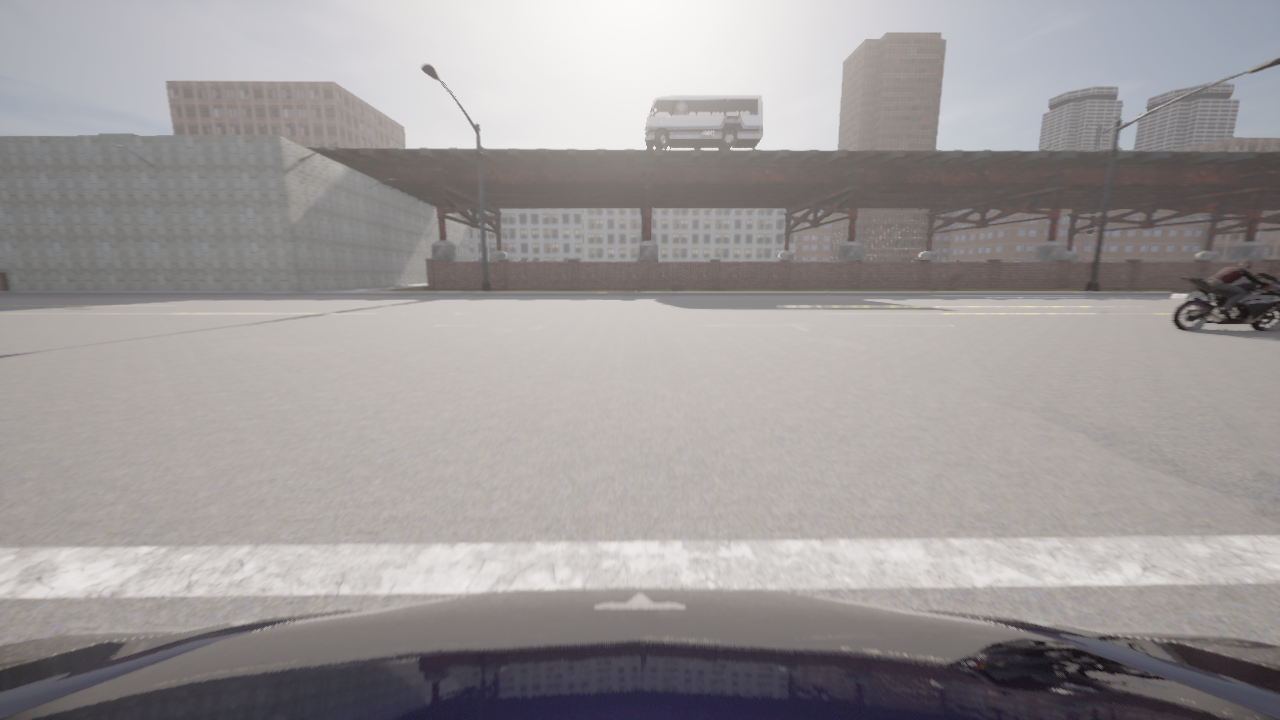cyclist: (0, 588, 1279, 719), (642, 94, 763, 149), (1170, 273, 1279, 331)
